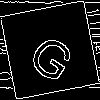G: (25, 25, 83, 85)
